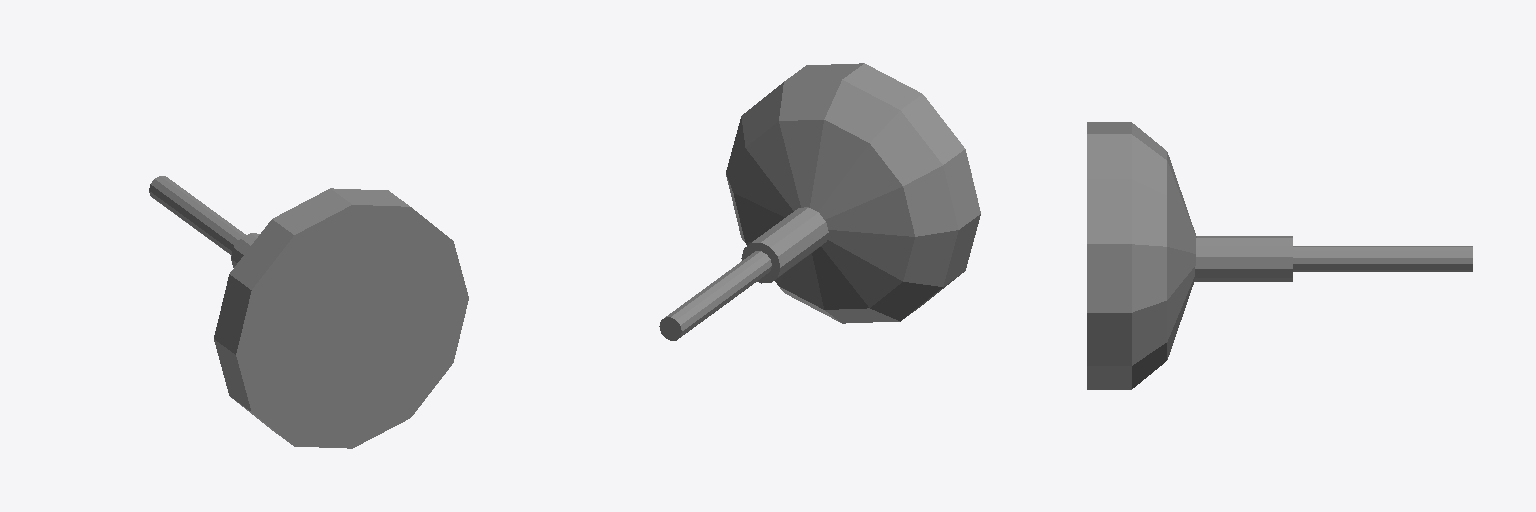
The model's file is gun_turret_01.obj.
The picture shows the model from 3 angles: view 1: azimuth 30°, elevation 25°; view 2: azimuth 150°, elevation 25°; view 3: azimuth 270°, elevation 25°; orthographic projection.
Visible parts, largest first — view 1: gun_turret_01; view 2: gun_turret_01; view 3: gun_turret_01.
Boxes of the visible parts, x1,y1,x2,y2 form: gun_turret_01: [149, 176, 468, 448]; gun_turret_01: [659, 63, 980, 340]; gun_turret_01: [1087, 122, 1472, 389].
Bounding box in the file's own units: 404 × 404 × 580.